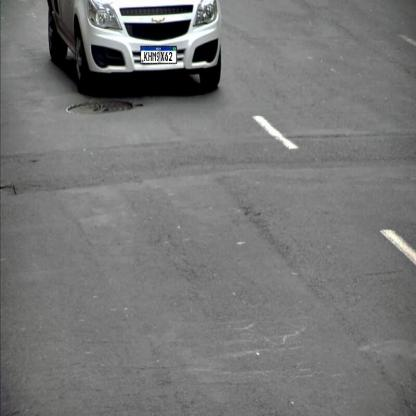PlacaM: (140, 46, 177, 64)
